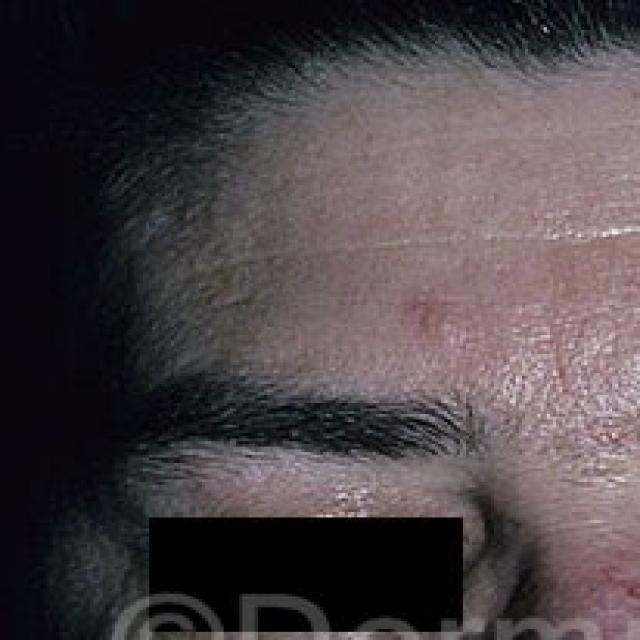Rosacea: (401, 255, 640, 376), (520, 547, 640, 613)
